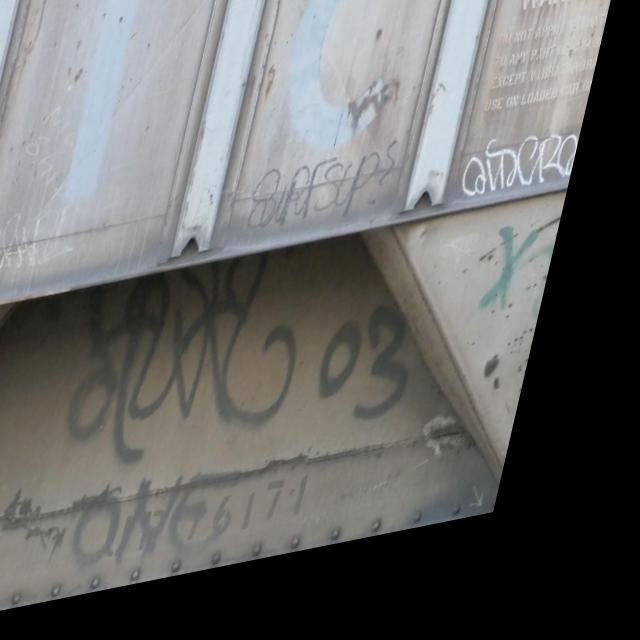nonspitting: (66, 245, 298, 470), (72, 470, 230, 568), (253, 140, 398, 225), (318, 302, 412, 422), (466, 132, 574, 198)
